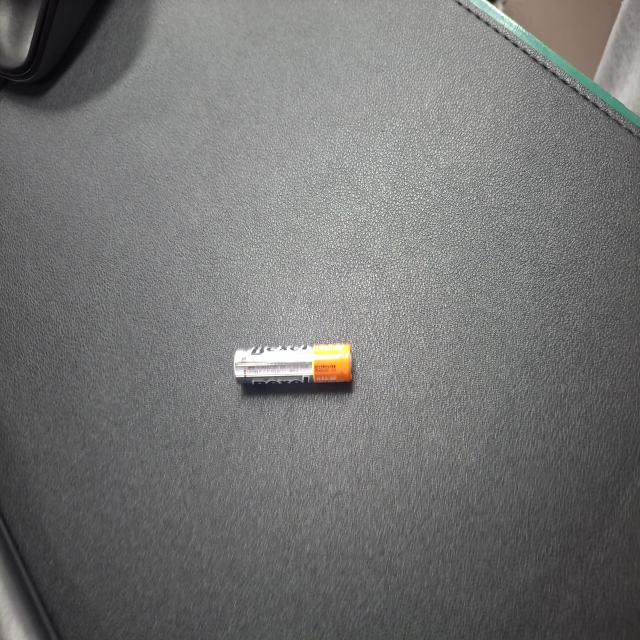AAA: (193, 312, 221, 468)
